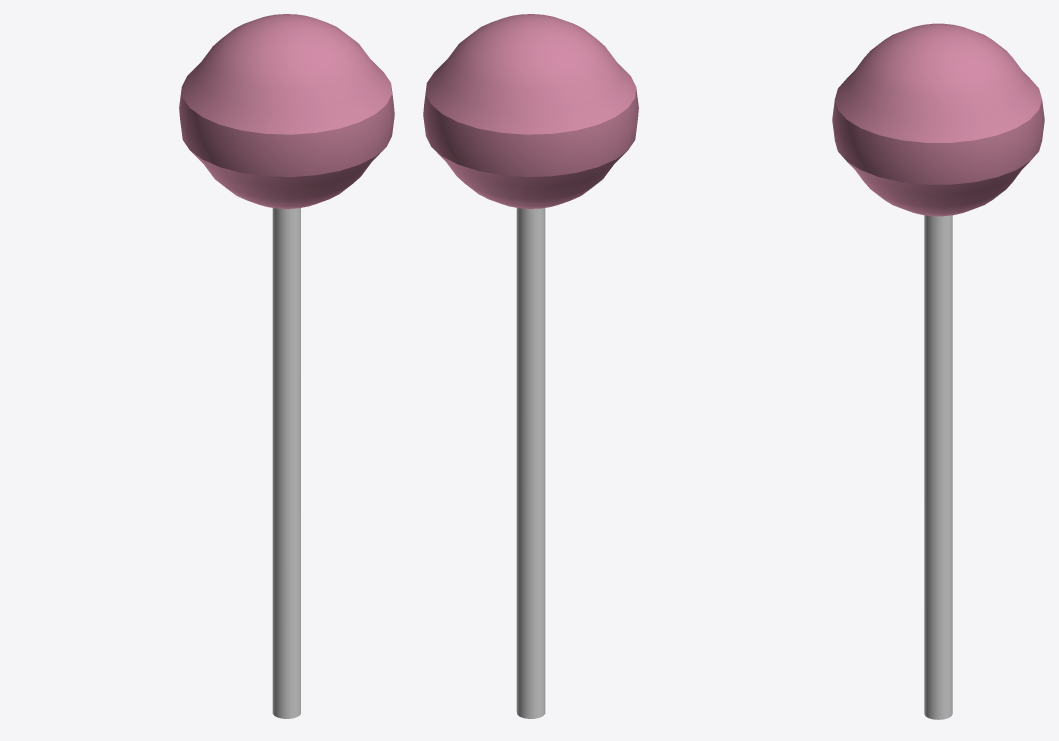
The model's file is lolipop.glb.
3 renders of one model, left to right at view 1: azimuth 30°, elevation 25°; view 2: azimuth 150°, elevation 25°; view 3: azimuth 270°, elevation 25°, orthographic.
Visible parts, largest first — view 1: Cherry_Pop; view 2: Cherry_Pop; view 3: Cherry_Pop.
Part boxes in pixels (x1,y1,x2,y2): Cherry_Pop: [179, 14, 394, 718]; Cherry_Pop: [423, 14, 638, 718]; Cherry_Pop: [832, 23, 1044, 719].
Bounding box in the file's own units: 1.4 × 2.56 × 0.7258.
